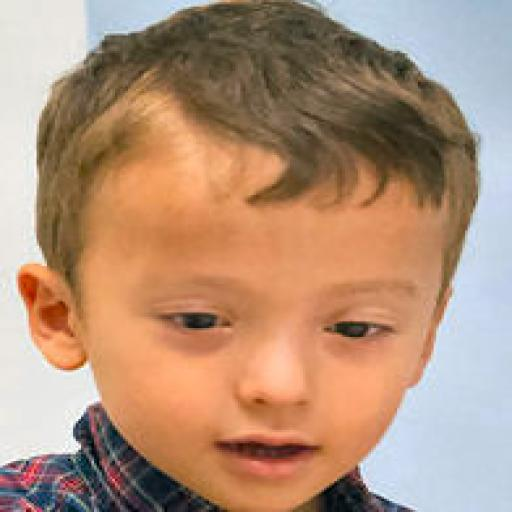Autism: (21, 27, 500, 512)
